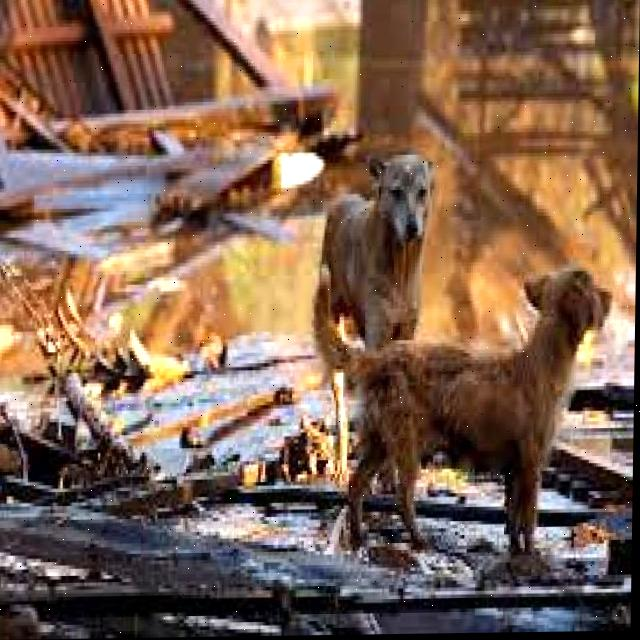dog: (285, 254, 611, 555), (277, 141, 451, 357)
